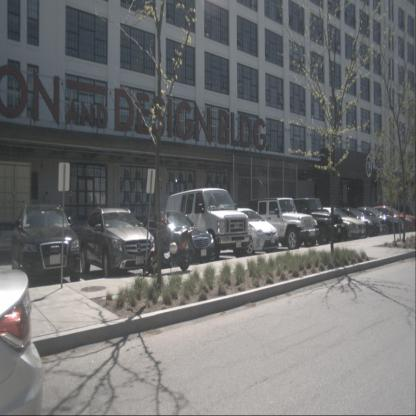human-pedestrian-adult: (43, 191, 51, 226)
vehicle-car: (0, 266, 44, 416), (162, 187, 250, 262), (10, 202, 82, 286), (78, 208, 156, 280), (133, 208, 216, 263), (271, 198, 345, 248), (249, 198, 319, 250), (213, 208, 279, 256), (324, 204, 384, 240), (304, 206, 367, 240), (346, 204, 404, 236), (363, 205, 416, 235), (0, 219, 19, 258)
vehicle-motorcycle: (146, 213, 195, 276)
